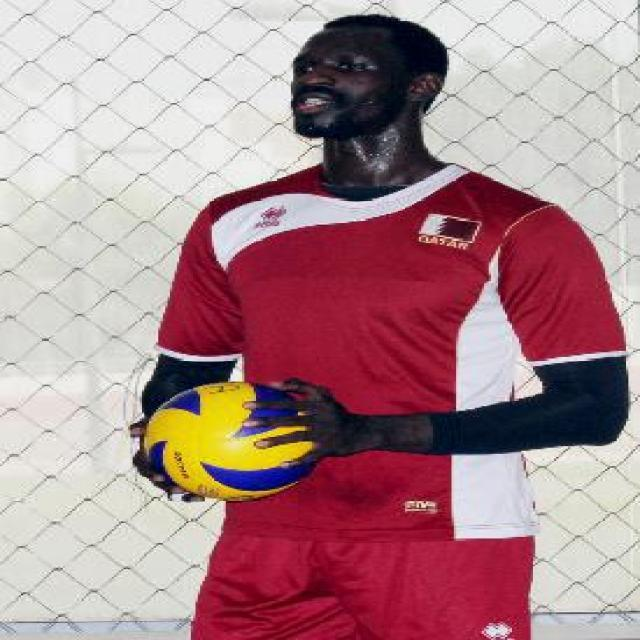volleyball: (142, 381, 320, 501)
